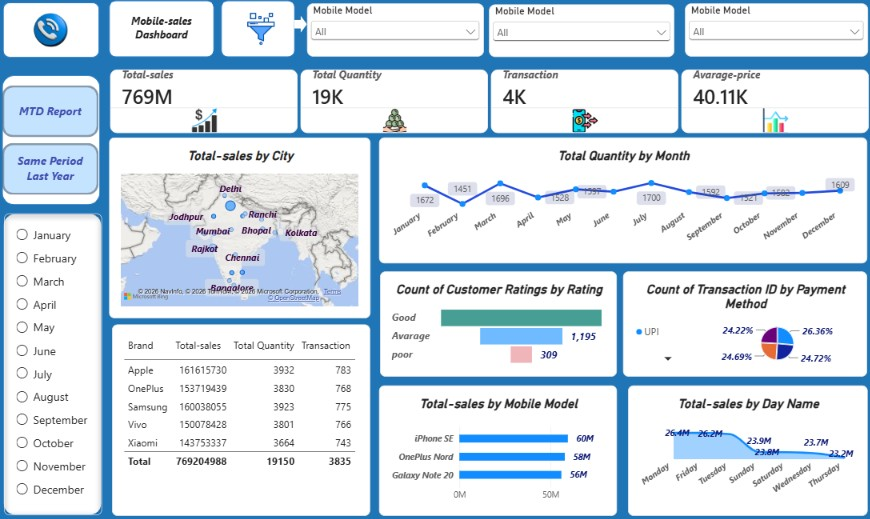

The page's visual inventory and layout, read from the dashboard file:
{"tool":"powerbi","page":{"name":"Dashboard","canvas":[1920,1080],"ordinal":0},"visuals":[{"type":"shape","box":[10,5,137.5,78.8],"z":0},{"type":"image","box":[46.2,10,65,70],"z":1000},{"type":"shape","box":[8.8,110,140,185],"z":2000},{"type":"shape","box":[10,307.5,141.2,431.2],"z":3000},{"type":"listSlicer","fields":{"Values":["Costum-calendar.Date.Variation.Date Hierarchy.Month"]},"box":[11.2,307.5,140,431.2],"z":4000},{"type":"cardVisual","fields":{"Data":["Sales-Data.Total-sales","Sales-Data.Total Quantity","Sales-Data.Transaction","Sales-Data.Avarage-price"]},"box":[155,93.8,1100,105],"z":5000},{"type":"slicer","fields":{"Values":["Sales-Data.Mobile Model"]},"box":[443.8,7.5,252.5,76.2],"z":6000},{"type":"slicer","fields":{"Values":["Sales-Data.Mobile Model"]},"box":[705,8.8,265,75],"z":7000},{"type":"slicer","fields":{"Values":["Sales-Data.Mobile Model"]},"box":[983.8,7.5,261.2,76.2],"z":8000},{"type":"shape","box":[321.1,3.3,105.6,81.1],"z":9000},{"type":"image","box":[338.8,20,80,47.5],"z":10000},{"type":"shape","box":[426.2,23.8,18.8,25],"z":11000},{"type":"shape","box":[161.1,3.3,150,81.1],"z":12000},{"type":"textbox","box":[5.5,652,150,338],"z":13000},{"type":"textbox","box":[161.2,21.2,150,48.8],"z":14000},{"type":"map","fields":{"Category":["Sales-Data.City"],"Size":["Sales-Data.Total-sales"]},"box":[161.2,198.8,373.8,258.8],"z":15000},{"type":"lineChart","fields":{"Category":["Costum-calendar.Date.Variation.Date Hierarchy.Month"],"Y":["Sales-Data.Total Quantity"]},"box":[547.5,198.8,697.5,180],"z":16000},{"type":"funnel","fields":{"Category":["Sales-Data.Rating"],"Y":["CountNonNull(Sales-Data.Customer Ratings)"]},"box":[548.8,390,338.8,150],"z":17000},{"type":"pieChart","fields":{"Category":["Sales-Data.Payment Method"],"Y":["CountNonNull(Sales-Data.Transaction ID)"]},"box":[896.2,390,348.8,150],"z":18000},{"type":"clusteredBarChart","fields":{"Category":["Sales-Data.Mobile Model"],"Y":["Sales-Data.Total-sales"]},"box":[547.5,552.5,340,186.2],"z":19000},{"type":"areaChart","fields":{"Category":["Costum-calendar.Day Name"],"Y":["Sales-Data.Total-sales"]},"box":[902.5,552.5,342.5,186.2],"z":20000},{"type":"tableEx","fields":{"Values":["Sales-Data.Brand","Sales-Data.Total-sales","Sales-Data.Total Quantity","Sales-Data.Transaction"]},"box":[166.2,465,368.8,273.8],"z":21000},{"type":"pageNavigator","box":[8.8,123.8,138.8,157.5],"z":21001}]}

Visuals, with their boxes on the page's 1920x1080 design canvas (x1, y1, x2, y2). These are canvas units, not pixel positions in the 870x519 screenshot, which may show the page scaled, cropped or inside an application window:
shape: (x1=10, y1=5, x2=148, y2=84)
image: (x1=46, y1=10, x2=111, y2=80)
shape: (x1=9, y1=110, x2=149, y2=295)
shape: (x1=10, y1=308, x2=151, y2=739)
listSlicer - Costum-calendar.Date.Variation.Date Hierarchy.Month: (x1=11, y1=308, x2=151, y2=739)
cardVisual - Sales-Data.Total-sales x Sales-Data.Total Quantity: (x1=155, y1=94, x2=1255, y2=199)
slicer - Sales-Data.Mobile Model: (x1=444, y1=8, x2=696, y2=84)
slicer - Sales-Data.Mobile Model: (x1=705, y1=9, x2=970, y2=84)
slicer - Sales-Data.Mobile Model: (x1=984, y1=8, x2=1245, y2=84)
shape: (x1=321, y1=3, x2=427, y2=84)
image: (x1=339, y1=20, x2=419, y2=68)
shape: (x1=426, y1=24, x2=445, y2=49)
shape: (x1=161, y1=3, x2=311, y2=84)
textbox: (x1=6, y1=652, x2=156, y2=990)
textbox: (x1=161, y1=21, x2=311, y2=70)
map - Sales-Data.City x Sales-Data.Total-sales: (x1=161, y1=199, x2=535, y2=458)
lineChart - Costum-calendar.Date.Variation.Date Hierarchy.Month x Sales-Data.Total Quantity: (x1=548, y1=199, x2=1245, y2=379)
funnel - Sales-Data.Rating x CountNonNull(Sales-Data.Customer Ratings): (x1=549, y1=390, x2=888, y2=540)
pieChart - Sales-Data.Payment Method x CountNonNull(Sales-Data.Transaction ID): (x1=896, y1=390, x2=1245, y2=540)
clusteredBarChart - Sales-Data.Mobile Model x Sales-Data.Total-sales: (x1=548, y1=552, x2=888, y2=739)
areaChart - Costum-calendar.Day Name x Sales-Data.Total-sales: (x1=902, y1=552, x2=1245, y2=739)
tableEx - Sales-Data.Brand x Sales-Data.Total-sales: (x1=166, y1=465, x2=535, y2=739)
pageNavigator: (x1=9, y1=124, x2=148, y2=281)
